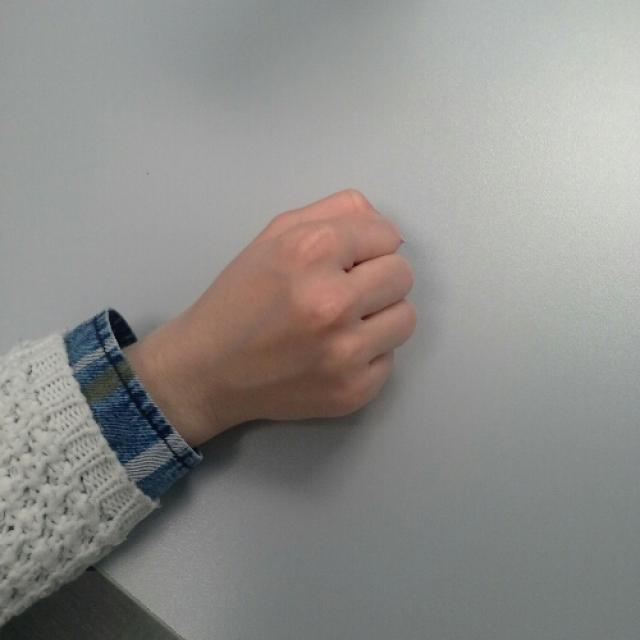rock: (196, 186, 418, 424)
